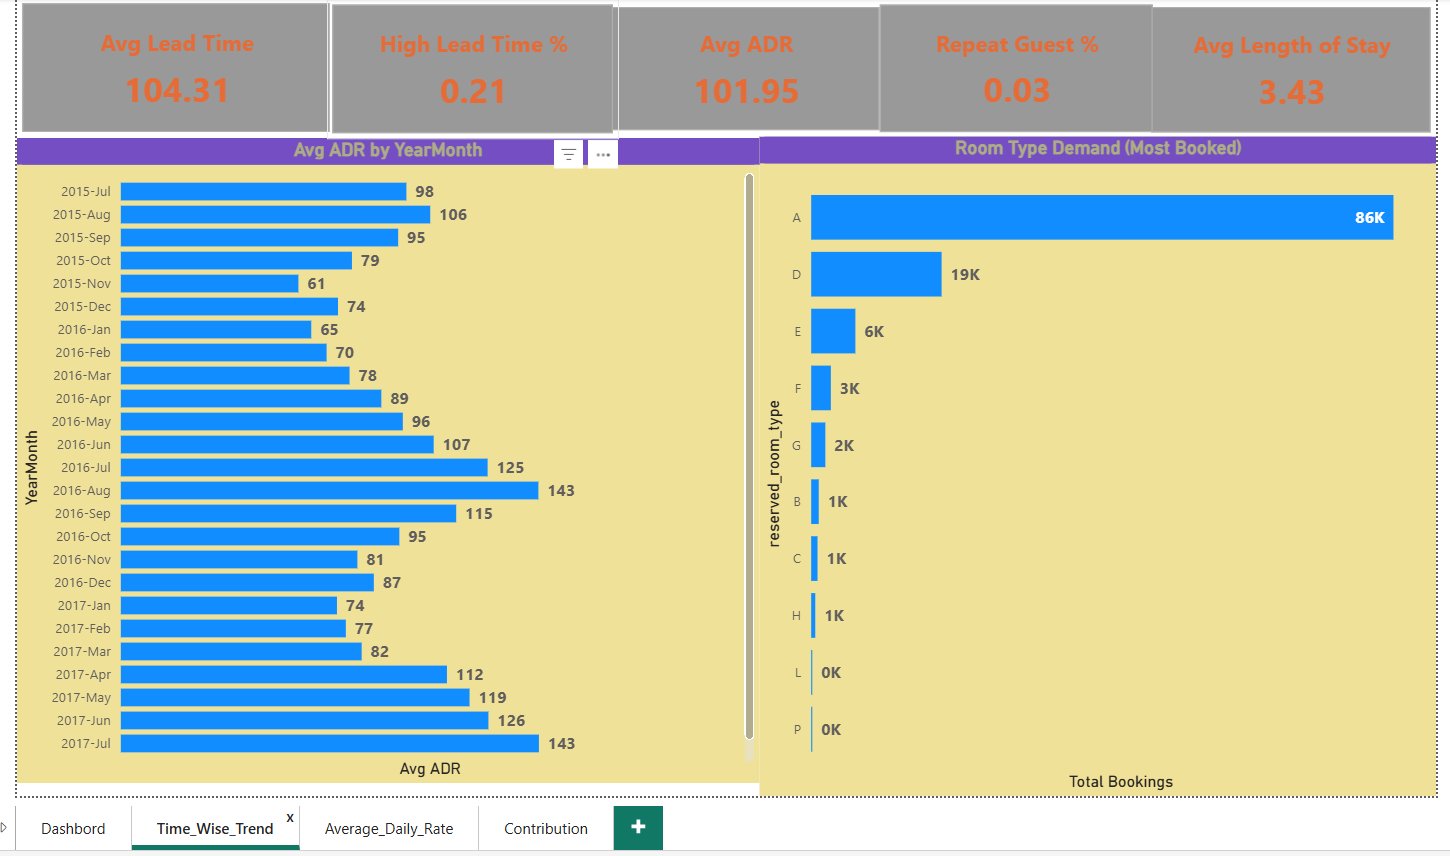

What the dashboard file says about the page in this screenshot:
{"tool":"powerbi","page":{"name":"Time_Wise_Trend","canvas":[1280,720],"ordinal":1},"visuals":[{"type":"clusteredBarChart","title":"Room Type Demand (Most Booked)","fields":{"Category":["final_Hotel_Bokings_Analysis.reserved_room_type"],"Y":["final_Hotel_Bokings_Analysis.Total Bookings"]},"box":[669.3,125.6,610.8,594.6],"z":0},{"type":"barChart","fields":{"Category":["final_Hotel_Bokings_Analysis.YearMonth"],"Y":["final_Hotel_Bokings_Analysis.Avg ADR"]},"box":[0,126.2,669.6,581.8],"z":2000},{"type":"cardVisual","fields":{"Data":["final_Hotel_Bokings_Analysis.Avg Lead Time"]},"box":[0,0,287.2,126.7],"z":3000},{"type":"cardVisual","fields":{"Data":["final_Hotel_Bokings_Analysis.Avg ADR"]},"box":[531.2,3.7,252.5,121.9],"z":4000},{"type":"cardVisual","fields":{"Data":["final_Hotel_Bokings_Analysis.High Lead Time %"]},"box":[279.1,1.2,264,126.7],"z":5000},{"type":"cardVisual","fields":{"Data":["final_Hotel_Bokings_Analysis.Avg Length of Stay"]},"box":[1017.6,3.7,262.5,123.2],"z":6000},{"type":"cardVisual","fields":{"Data":["final_Hotel_Bokings_Analysis.Repeat Guest %"]},"box":[773.7,1.2,256.3,125.6],"z":7000}]}

Visuals, with their boxes on the page's 1280x720 design canvas (x1, y1, x2, y2). These are canvas units, not pixel positions in the 1450x856 screenshot, which may show the page scaled, cropped or inside an application window:
"Room Type Demand (Most Booked)" clusteredBarChart: rect(669, 126, 1280, 720)
barChart - final_Hotel_Bokings_Analysis.YearMonth x final_Hotel_Bokings_Analysis.Avg ADR: rect(0, 126, 670, 708)
cardVisual - final_Hotel_Bokings_Analysis.Avg Lead Time: rect(0, 0, 287, 127)
cardVisual - final_Hotel_Bokings_Analysis.Avg ADR: rect(531, 4, 784, 126)
cardVisual - final_Hotel_Bokings_Analysis.High Lead Time %: rect(279, 1, 543, 128)
cardVisual - final_Hotel_Bokings_Analysis.Avg Length of Stay: rect(1018, 4, 1280, 127)
cardVisual - final_Hotel_Bokings_Analysis.Repeat Guest %: rect(774, 1, 1030, 127)
